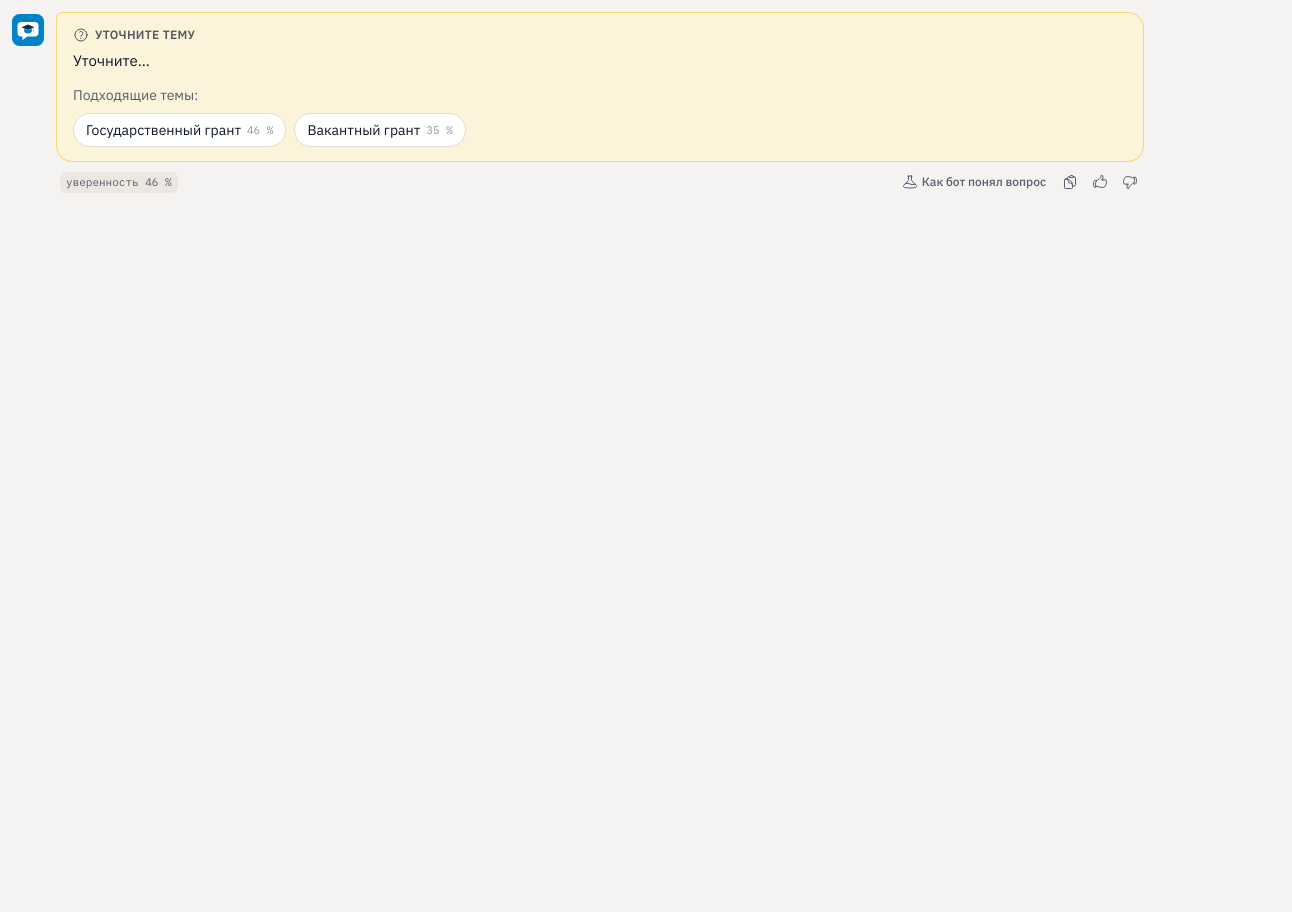
Scenario: ChatBubble › asks to pick a topic for a short ambiguous request
Check: the number of buttons with class "chip" is 2, box x1=73 y1=113 x2=286 y2=147; x1=294 y1=113 x2=466 y2=147
Click the button "Как бот понял вопрос" at point(974, 182), box x1=894 y1=170 x2=1054 y2=194
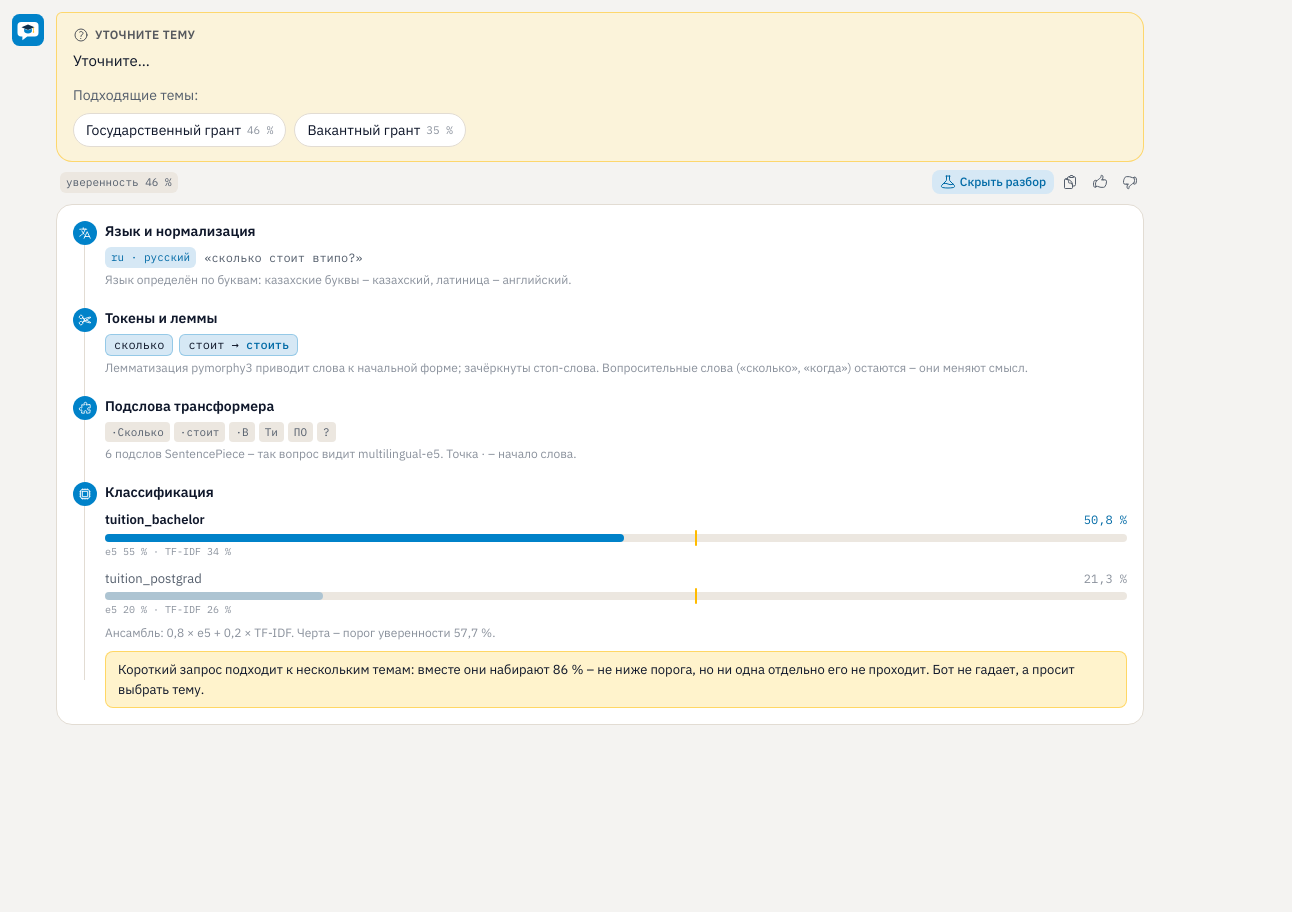
Check: the text "86" is shown, box x1=118 y1=661 x2=1075 y2=698
Check: the text "просит выбрать тему" is shown, box x1=118 y1=661 x2=1075 y2=698
